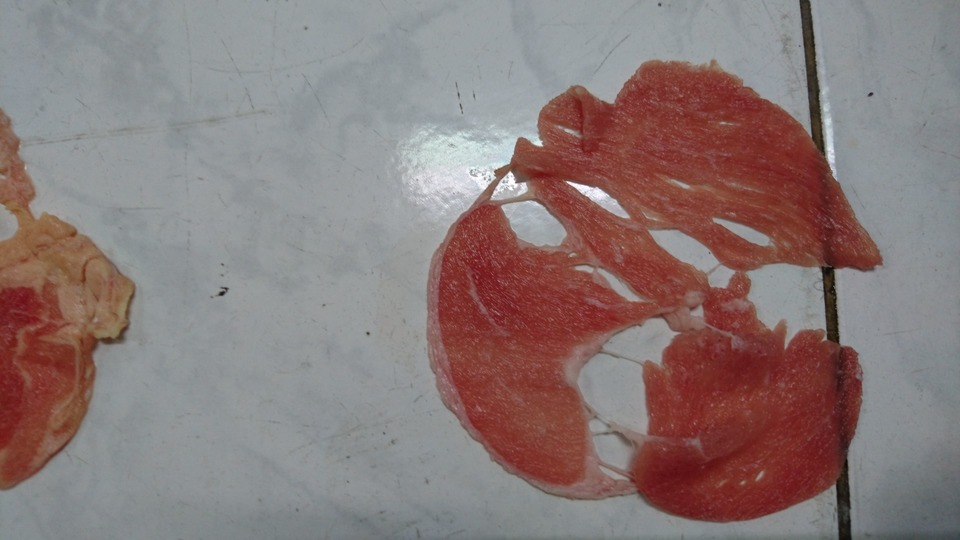restructured meat: (417, 50, 871, 519), (1, 104, 125, 475)
